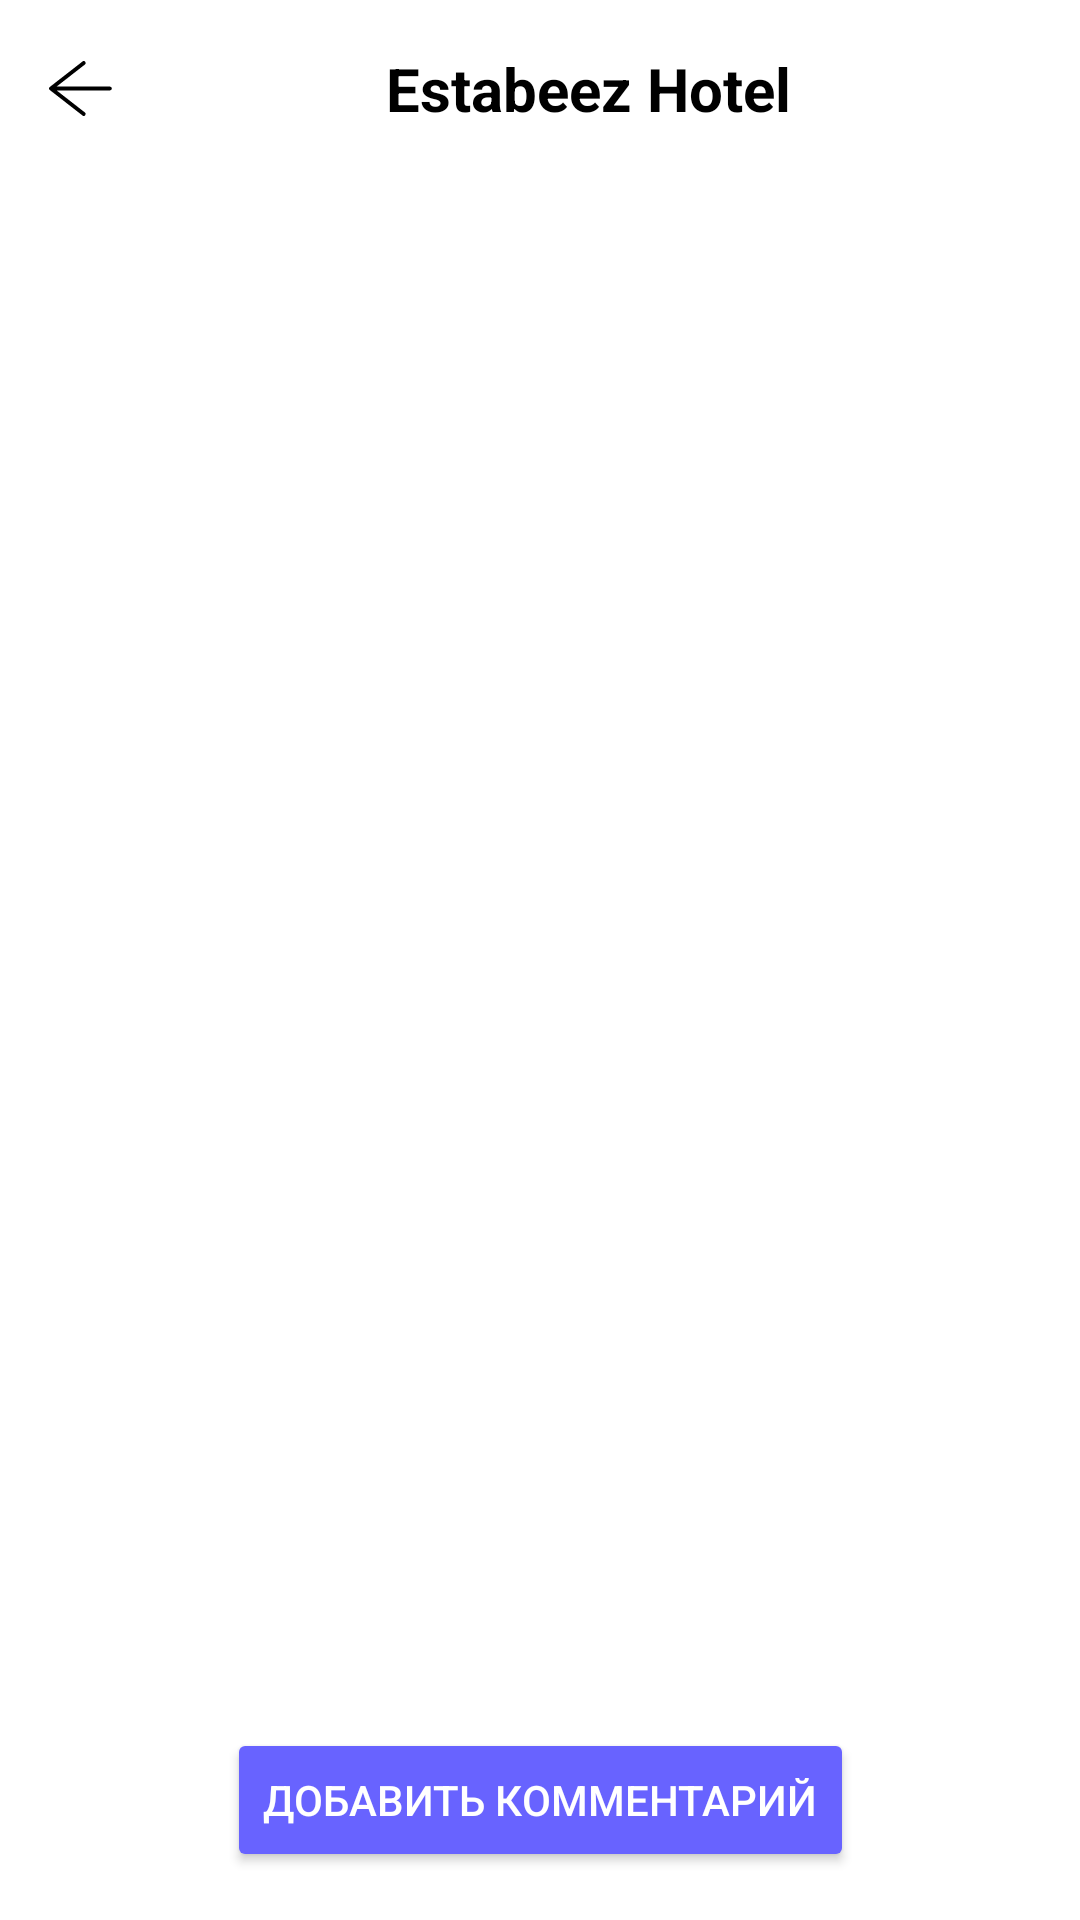

Icons on this 1080px×1920px Android screen, each with the point to tap as (x=x, y=y):
Back button: (x=80, y=88)
